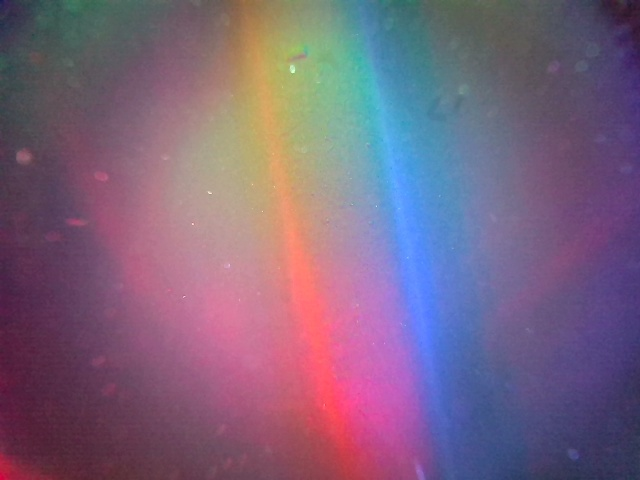contact: (243, 4, 454, 478)
